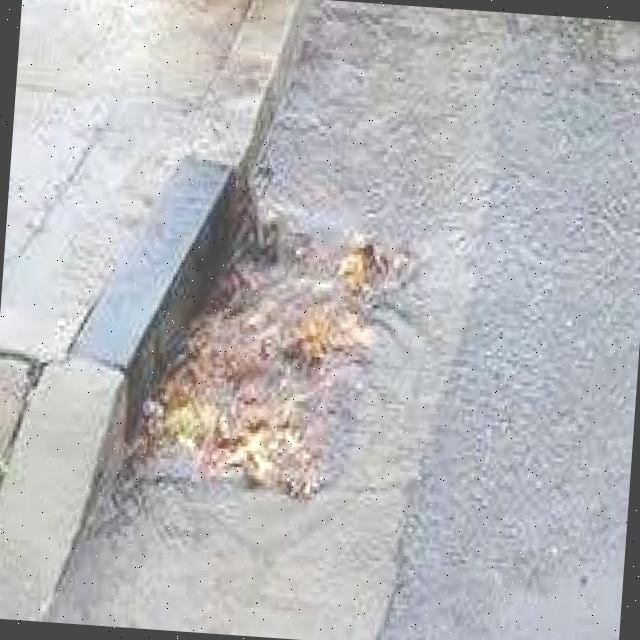curb: (63, 182, 255, 408), (1, 349, 151, 628), (168, 1, 332, 210)
